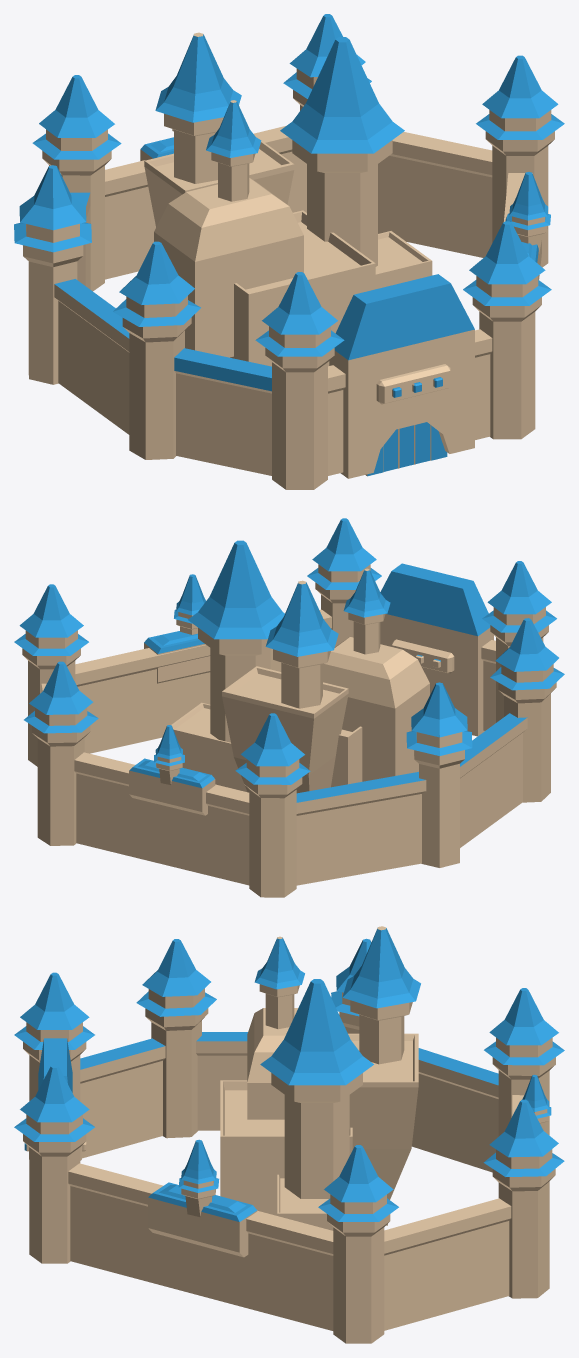
Rendered from Castle_textured.fbx.
The picture shows the model from 3 angles, top to bottom: view 1: azimuth 30°, elevation 25°; view 2: azimuth 150°, elevation 25°; view 3: azimuth 270°, elevation 25°; orthographic projection. The views are drawn at different scales.
Visible parts, largest first — view 1: Castle; view 2: Castle; view 3: Castle.
Boxes of the visible parts, left/top/right/bottom form: Castle: left=14, top=14, right=564, bottom=489; Castle: left=14, top=518, right=564, bottom=897; Castle: left=14, top=926, right=564, bottom=1343.
Bounding box in the file's own units: 2213 × 1324 × 2164.
